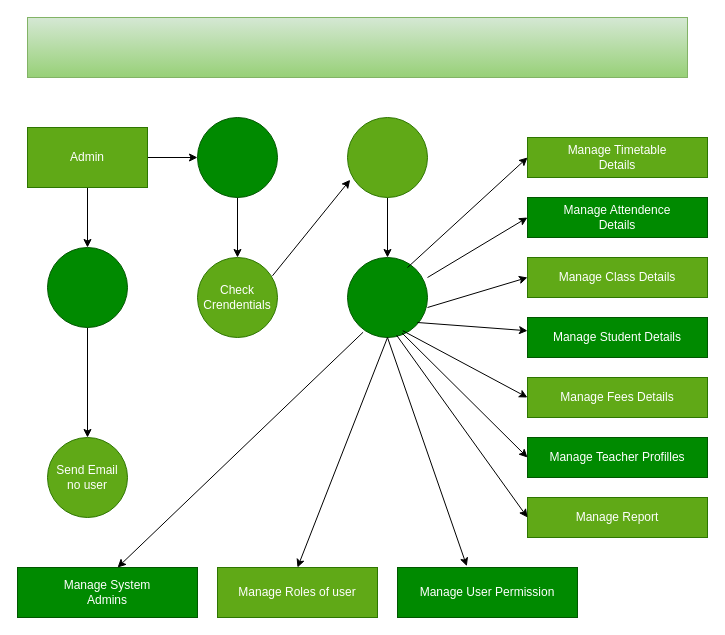
Some shapes in this 725 by 635 pixel diagram are drawn without their labels. Here are the shapes that lost their labels. From the top down, the box of each, then its label:
(26, 16, 688, 78): STUDENT INFORMATION SYSTEM
(196, 116, 278, 198): Login to system
(346, 116, 428, 198): Check Roles of Accesss
(46, 246, 128, 328): Forgot Password
(346, 256, 428, 338): Manage Modules
